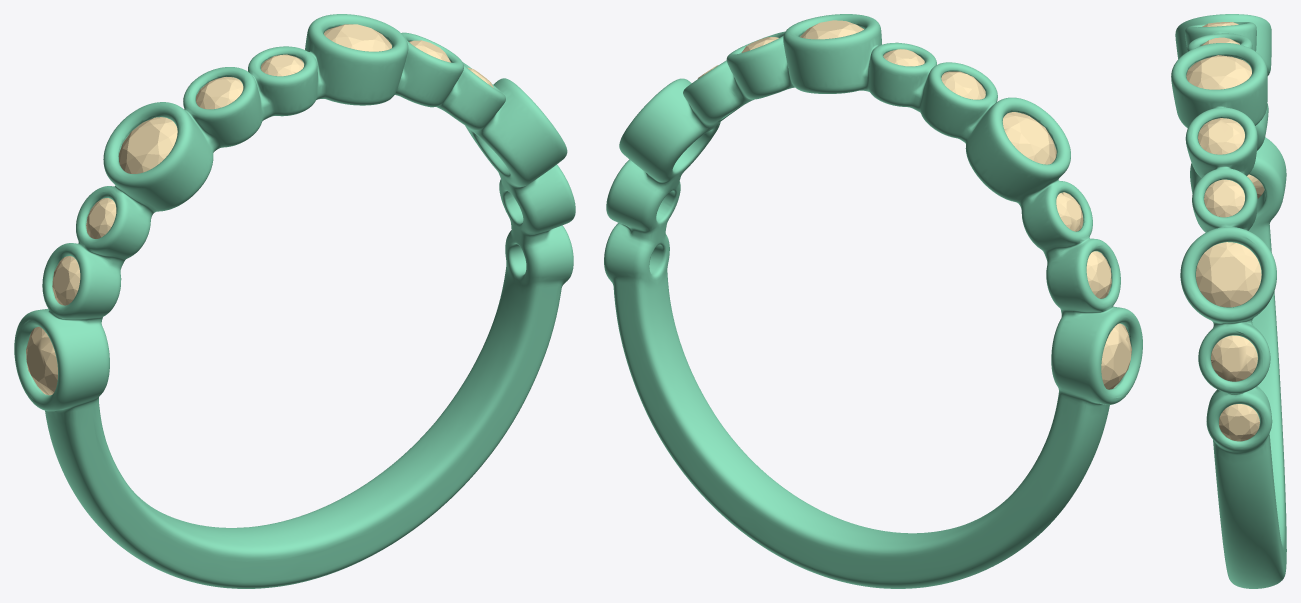
3 views of the same model, side by side, from view 1: azimuth 30°, elevation 25°; view 2: azimuth 150°, elevation 25°; view 3: azimuth 270°, elevation 25° (orthographic). The views are drawn at different scales.
Parts seen in each view (by area): view 1: Metal02, Diamond_Round.011, Diamond_Round.010, Diamond_Round.009, Diamond_Round.004, Diamond_Round.008, Diamond_Round.003, Diamond_Round.006; view 2: Metal02, Diamond_Round.011, Diamond_Round.010, Diamond_Round.008, Diamond_Round.004, Diamond_Round.009, Diamond_Round.003; view 3: Metal02, Diamond_Round.001, Diamond_Round.009, Diamond_Round, Diamond_Round.005, Diamond_Round.002, Diamond_Round.007, Diamond_Round.010.
Part boxes in pixels (x1,y1,x2,y2): Metal02: [14, 14, 575, 588]; Diamond_Round.011: [118, 117, 177, 173]; Diamond_Round.010: [26, 326, 57, 395]; Diamond_Round.009: [324, 24, 391, 51]; Diamond_Round.004: [196, 77, 243, 109]; Diamond_Round.008: [52, 256, 80, 305]; Diamond_Round.003: [86, 198, 116, 238]; Diamond_Round.006: [261, 54, 303, 76]; Metal02: [604, 14, 1142, 588]; Diamond_Round.011: [1002, 112, 1056, 164]; Diamond_Round.010: [1101, 323, 1131, 389]; Diamond_Round.008: [1086, 251, 1111, 298]; Diamond_Round.004: [941, 71, 985, 99]; Diamond_Round.009: [800, 20, 863, 39]; Diamond_Round.003: [1056, 192, 1083, 231]; Metal02: [1171, 14, 1286, 588]; Diamond_Round.001: [1196, 242, 1261, 307]; Diamond_Round.009: [1186, 55, 1251, 89]; Diamond_Round: [1211, 335, 1257, 381]; Diamond_Round.005: [1198, 118, 1244, 154]; Diamond_Round.002: [1204, 179, 1244, 217]; Diamond_Round.007: [1219, 404, 1259, 441]; Diamond_Round.010: [1247, 174, 1264, 198].
Bounding box in the file's own units: 20.3 × 20.43 × 4.09.
